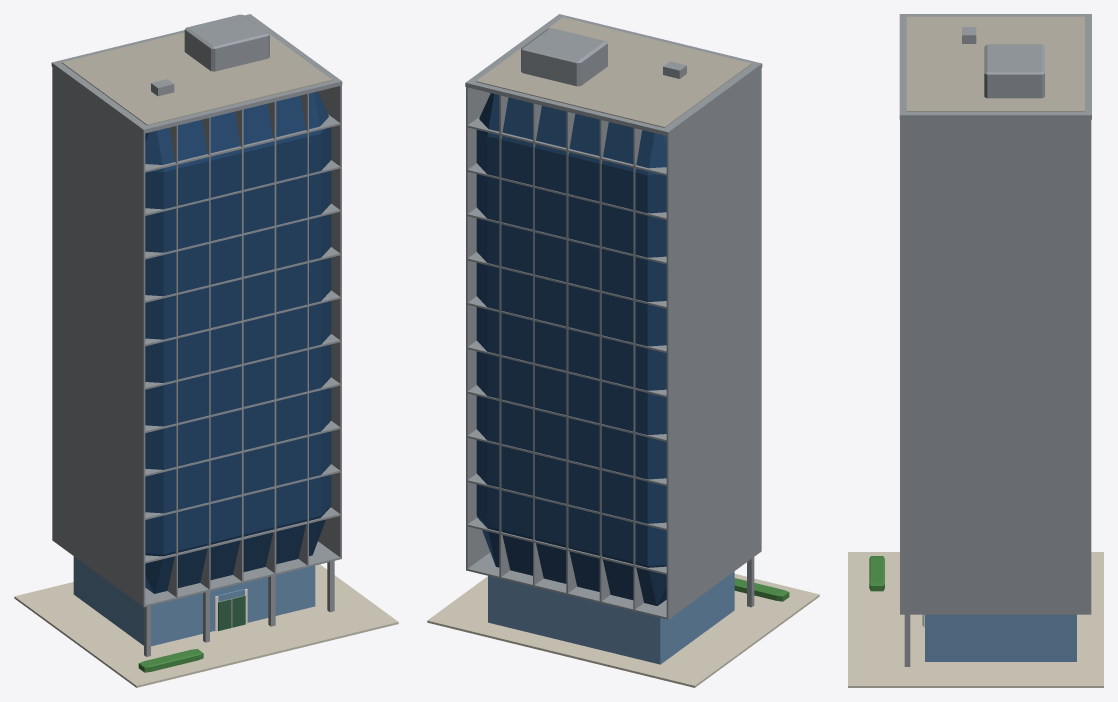
The model's file is office_f12_ribbon_w18.glb.
The picture shows the model from 3 angles, left to right: view 1: azimuth 30°, elevation 25°; view 2: azimuth 150°, elevation 25°; view 3: azimuth 270°, elevation 25°; orthographic projection. The views are drawn at different scales.
Parts seen in each view (by area): view 1: slab, mullv, plaza, roofslab, lobby, mullv.006, penthouse, roofband, mullh, mullv.003, mullv.004, mullv.002 (+13 smaller); view 2: slab, mullv, roofslab, lobby, plaza, mullv.006, roofband, penthouse, mullh, mullv.002, mullv.005, mullv.003 (+13 smaller); view 3: mullv.006, plaza, roofslab, lobby, roofband, penthouse, planter.
Boxes of the visible parts, x1,y1,x2,y2 form: slab: (145, 91, 331, 593); mullv: (52, 62, 145, 607); plaza: (14, 564, 398, 687); roofslab: (62, 32, 331, 125); lobby: (73, 556, 315, 646); mullv.006: (249, 14, 341, 558); penthouse: (184, 14, 269, 71); roofband: (51, 14, 342, 133); mullh: (144, 541, 341, 607); mullv.003: (151, 38, 243, 582); mullv.004: (184, 30, 276, 573); mullv.002: (118, 46, 210, 590); slab: (476, 93, 666, 605); mullv: (666, 63, 761, 619); roofslab: (476, 17, 751, 127); lobby: (488, 571, 734, 664); plaza: (427, 574, 819, 687); mullv.006: (466, 28, 541, 570); roofband: (465, 14, 762, 136); penthouse: (521, 28, 607, 86); mullh: (466, 552, 667, 619); mullv.002: (599, 47, 693, 603); mullv.005: (499, 22, 593, 578); mullv.003: (566, 39, 659, 594); mullv.006: (900, 114, 1091, 614); plaza: (848, 552, 1103, 687); roofslab: (906, 16, 1084, 111); lobby: (925, 614, 1076, 661); roofband: (899, 14, 1091, 119); penthouse: (984, 44, 1044, 98); planter: (869, 556, 884, 591).
Bounding box in the file's own units: 24 × 48.78 × 19.4.
